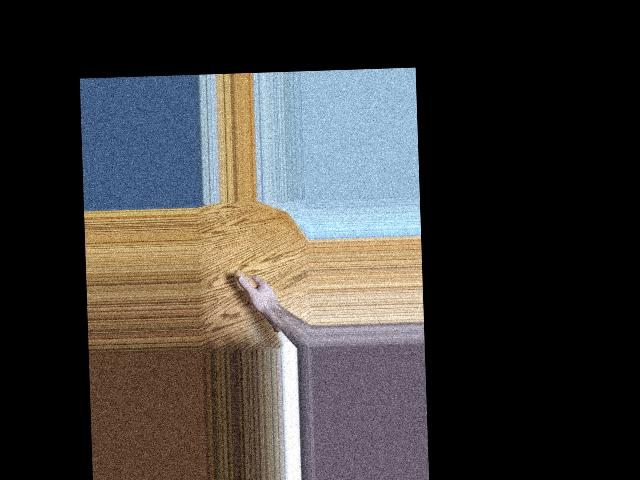sweet_potato: (233, 267, 279, 333)
